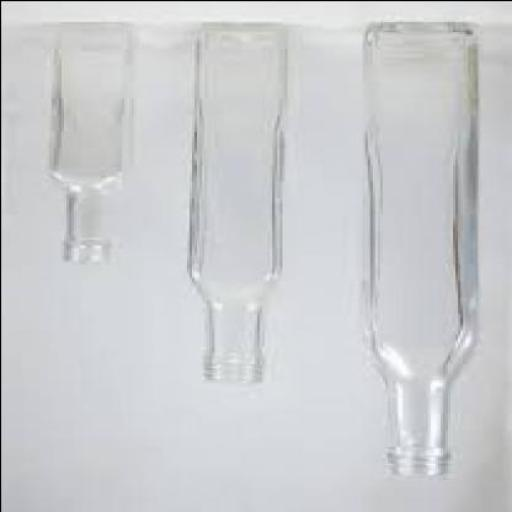glass: (356, 22, 474, 480), (185, 26, 286, 384), (47, 24, 136, 266)
